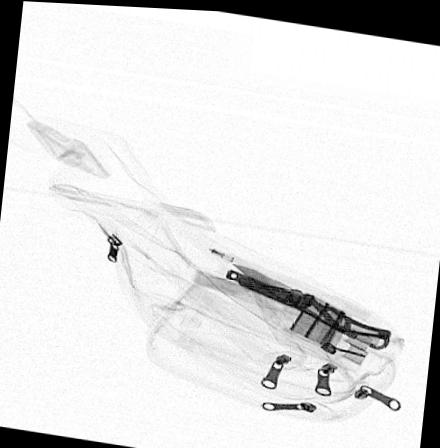Knife: (227, 258, 391, 345)
